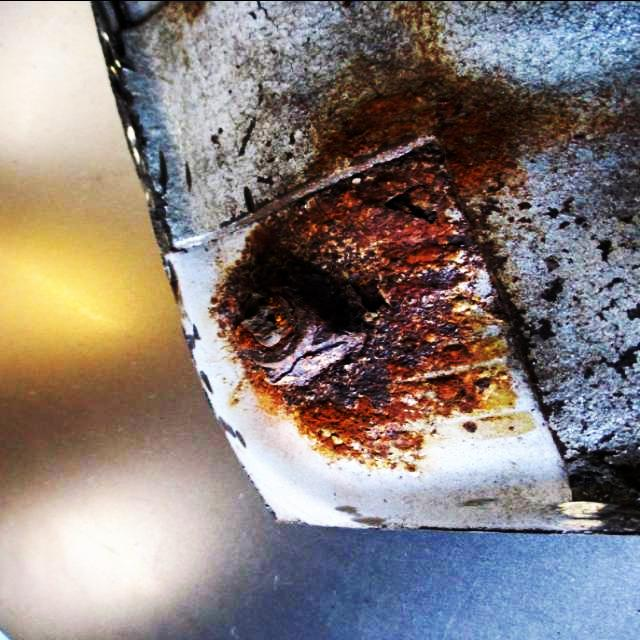Corrosion: (213, 139, 517, 472), (310, 94, 438, 176)
